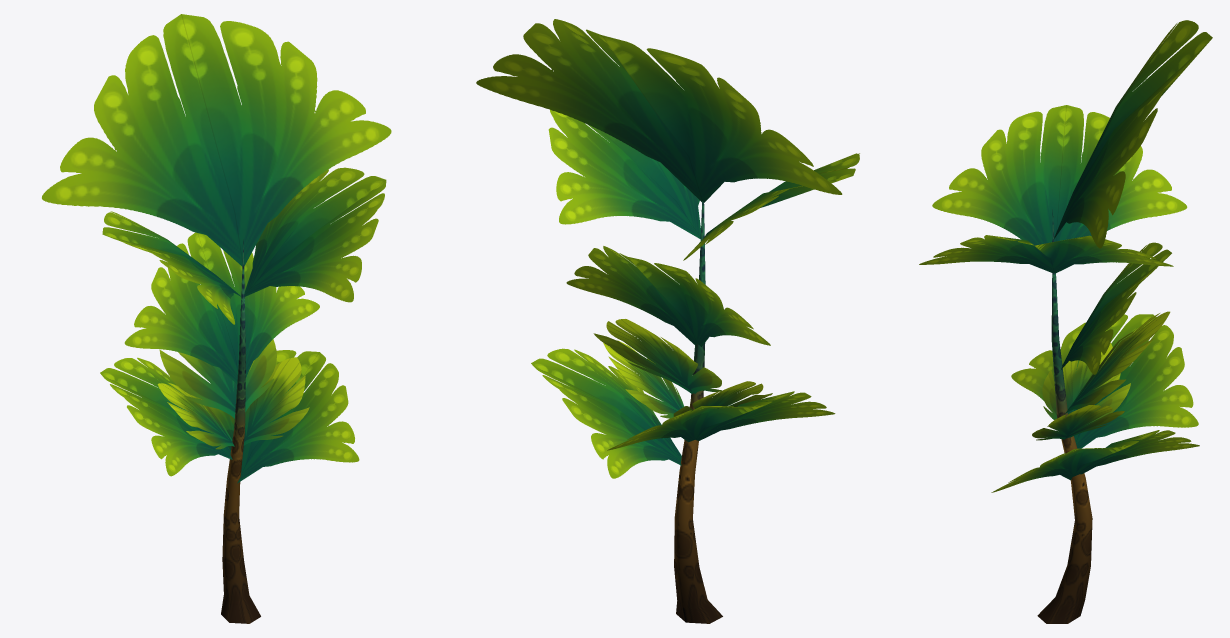
Rendered from Green_Tree_07b.FBX.
3 views of the same model, side by side, from view 1: azimuth 30°, elevation 25°; view 2: azimuth 150°, elevation 25°; view 3: azimuth 270°, elevation 25° (orthographic). The views are drawn at different scales.
Visible parts, largest first — view 1: Green_Tree_07b; view 2: Green_Tree_07b; view 3: Green_Tree_07b.
Boxes of the visible parts, bbox=[...] form: Green_Tree_07b: bbox=[42, 14, 391, 623]; Green_Tree_07b: bbox=[476, 19, 859, 623]; Green_Tree_07b: bbox=[919, 20, 1212, 623].
Bounding box in the file's own units: 214 × 291 × 143.
